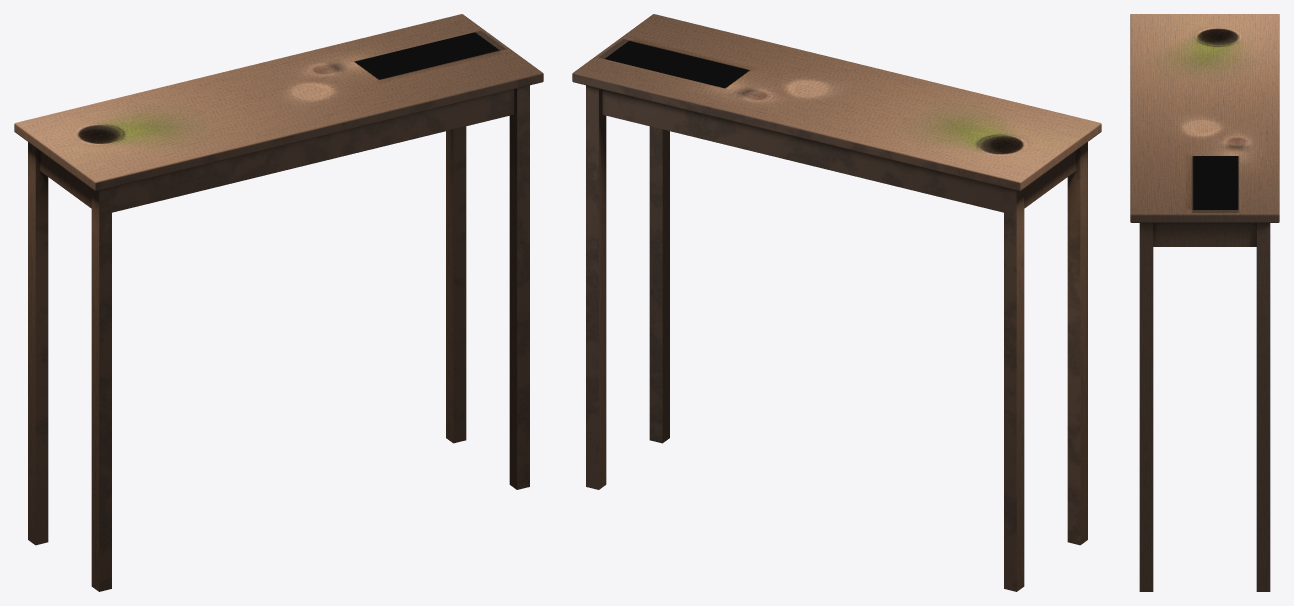
File: 815_states.glb
The picture shows the model from 3 angles, left to right: view 1: azimuth 30°, elevation 25°; view 2: azimuth 150°, elevation 25°; view 3: azimuth 270°, elevation 25°; orthographic projection. The views are drawn at different scales.
Parts seen in each view (by area): view 1: Table; view 2: Table; view 3: Table.
Part boxes in pixels (x1,y1,x2,y2): Table: (14,14,543,591); Table: (572,14,1101,591); Table: (1130,14,1279,591).
Size of what is drawn, in the model's own units: 3.5 by 3.1 by 1.1.
Materials: 1 (1 with a texture image).
